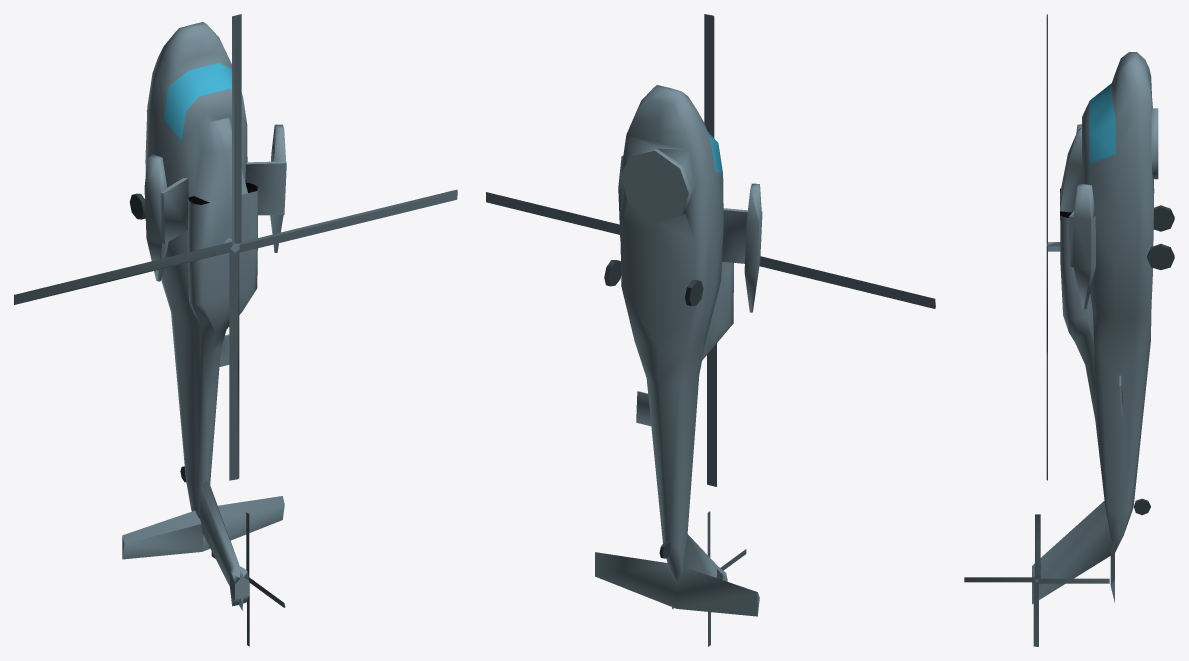
3 views of the same model, side by side, from view 1: azimuth 30°, elevation 25°; view 2: azimuth 150°, elevation 25°; view 3: azimuth 270°, elevation 25° (orthographic).
Visible parts, largest first — view 1: db_uh60_pl43_Geometry_0.001, db_uh60_p13896_Geometry_0.001, db_uh60_p13765_Geometry_0.001; view 2: db_uh60_pl43_Geometry_0.001, db_uh60_p13896_Geometry_0.001, db_uh60_p13849_Geometry_0.001; view 3: db_uh60_pl43_Geometry_0.001, db_uh60_p13896_Geometry_0.001, db_uh60_p13765_Geometry_0.001, db_uh60_p13849_Geometry_0.001.
Part boxes in pixels (box(x1,y1,x2,y2)): db_uh60_pl43_Geometry_0.001: box(122, 22, 286, 610); db_uh60_p13896_Geometry_0.001: box(14, 14, 457, 646); db_uh60_p13765_Geometry_0.001: box(163, 63, 242, 140); db_uh60_pl43_Geometry_0.001: box(595, 85, 762, 616); db_uh60_p13896_Geometry_0.001: box(486, 14, 935, 646); db_uh60_p13849_Geometry_0.001: box(604, 260, 703, 558); db_uh60_pl43_Geometry_0.001: box(1032, 52, 1158, 604); db_uh60_p13896_Geometry_0.001: box(964, 14, 1109, 646); db_uh60_p13765_Geometry_0.001: box(1089, 83, 1115, 163); db_uh60_p13849_Geometry_0.001: box(1134, 205, 1174, 515).
Bounding box in the file's own units: 13.64 × 18.47 × 5.62.
